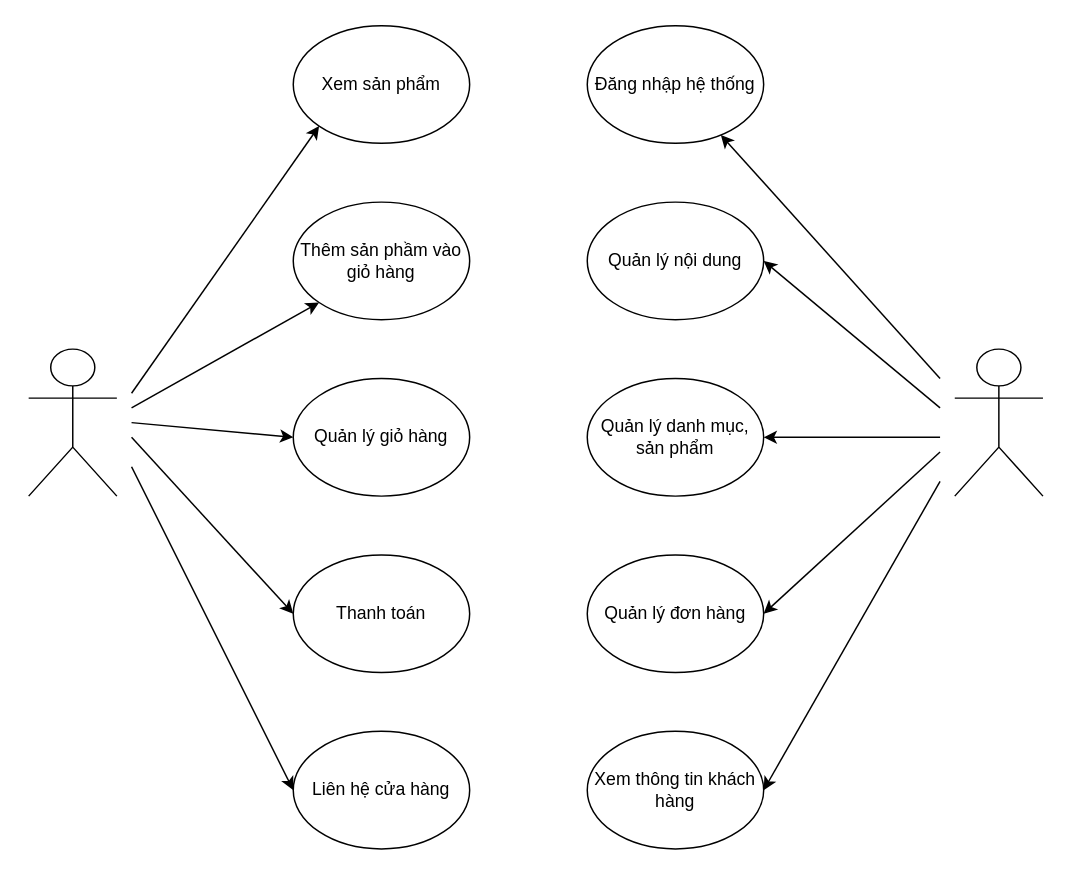
This 1069x875 diagram has some shape labels left out. The shapes that lost their labels are listed below. From the top down, each one's centre as x and y in pixels, then its label:
the point at 72,422: Khách hàng
the point at 998,422: Admin
